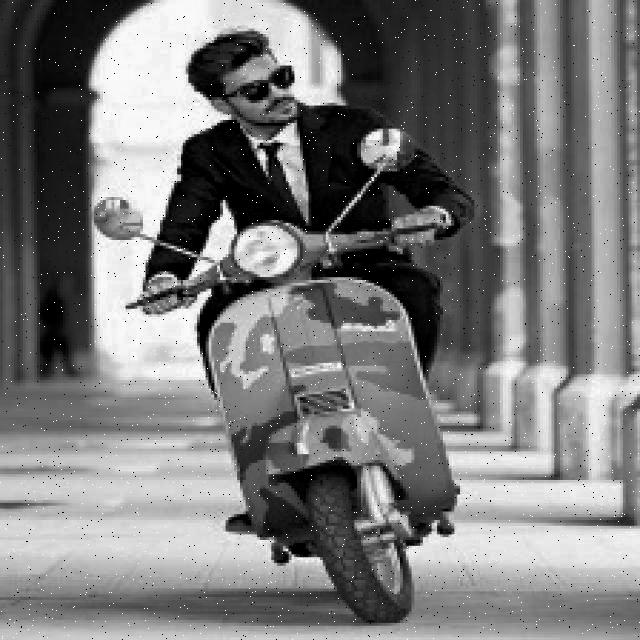Bike: (172, 235, 472, 631)
